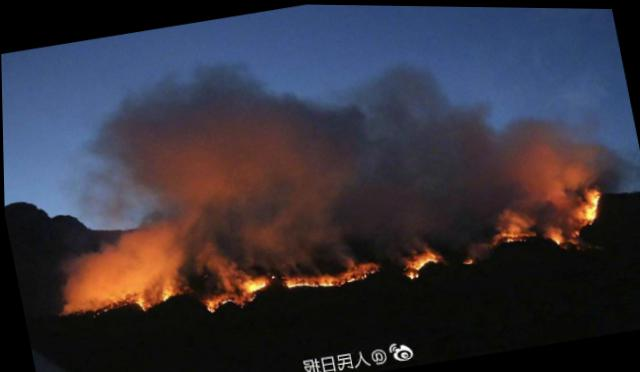fire: (63, 260, 187, 318), (283, 251, 376, 295), (490, 212, 565, 255), (203, 269, 272, 314), (568, 185, 609, 225), (403, 245, 441, 277)
